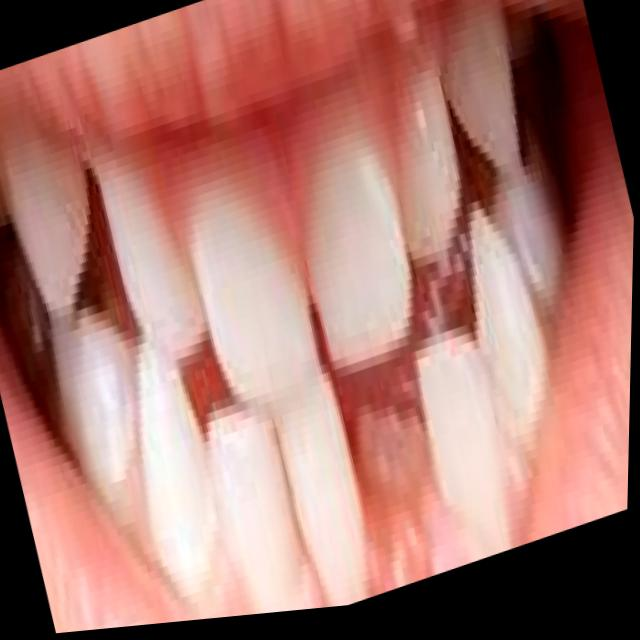hypodontia: (329, 342, 438, 588), (74, 154, 134, 328)
